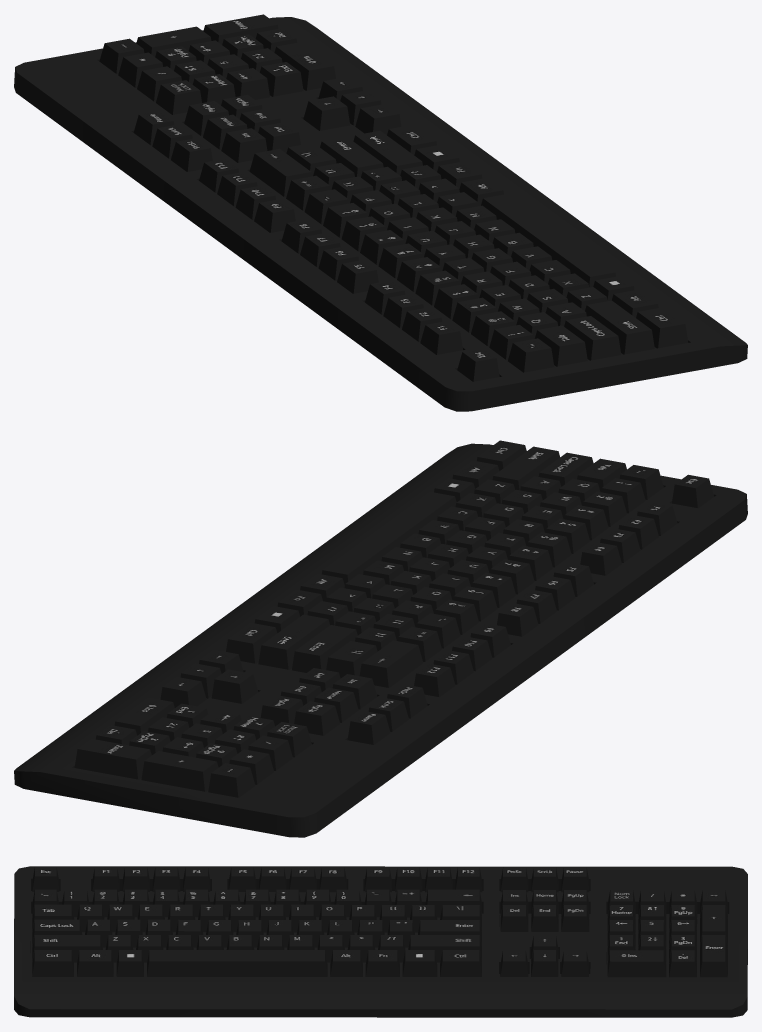
The model's file is RoroRoomKeyboard.glb.
3 views of the same model, one above another, from view 1: azimuth 30°, elevation 25°; view 2: azimuth 150°, elevation 25°; view 3: azimuth 270°, elevation 25° (orthographic). The views are drawn at different scales.
Visible parts, largest first — view 1: defaultMaterial.001; view 2: defaultMaterial.001; view 3: defaultMaterial.001.
Part boxes in pixels (x1,y1,x2,y2): defaultMaterial.001: [14, 14, 747, 411]; defaultMaterial.001: [14, 440, 747, 837]; defaultMaterial.001: [14, 866, 747, 1017].
Size of the model in its own units: 0.3493 by 0.0667 by 0.8997.
1 material, 1 textured.
